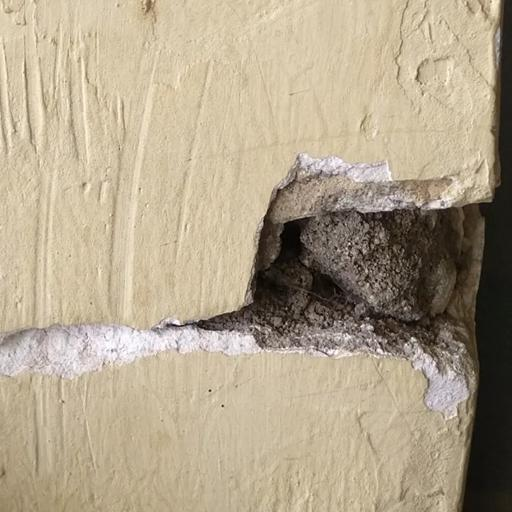spalling: (203, 130, 492, 408)
